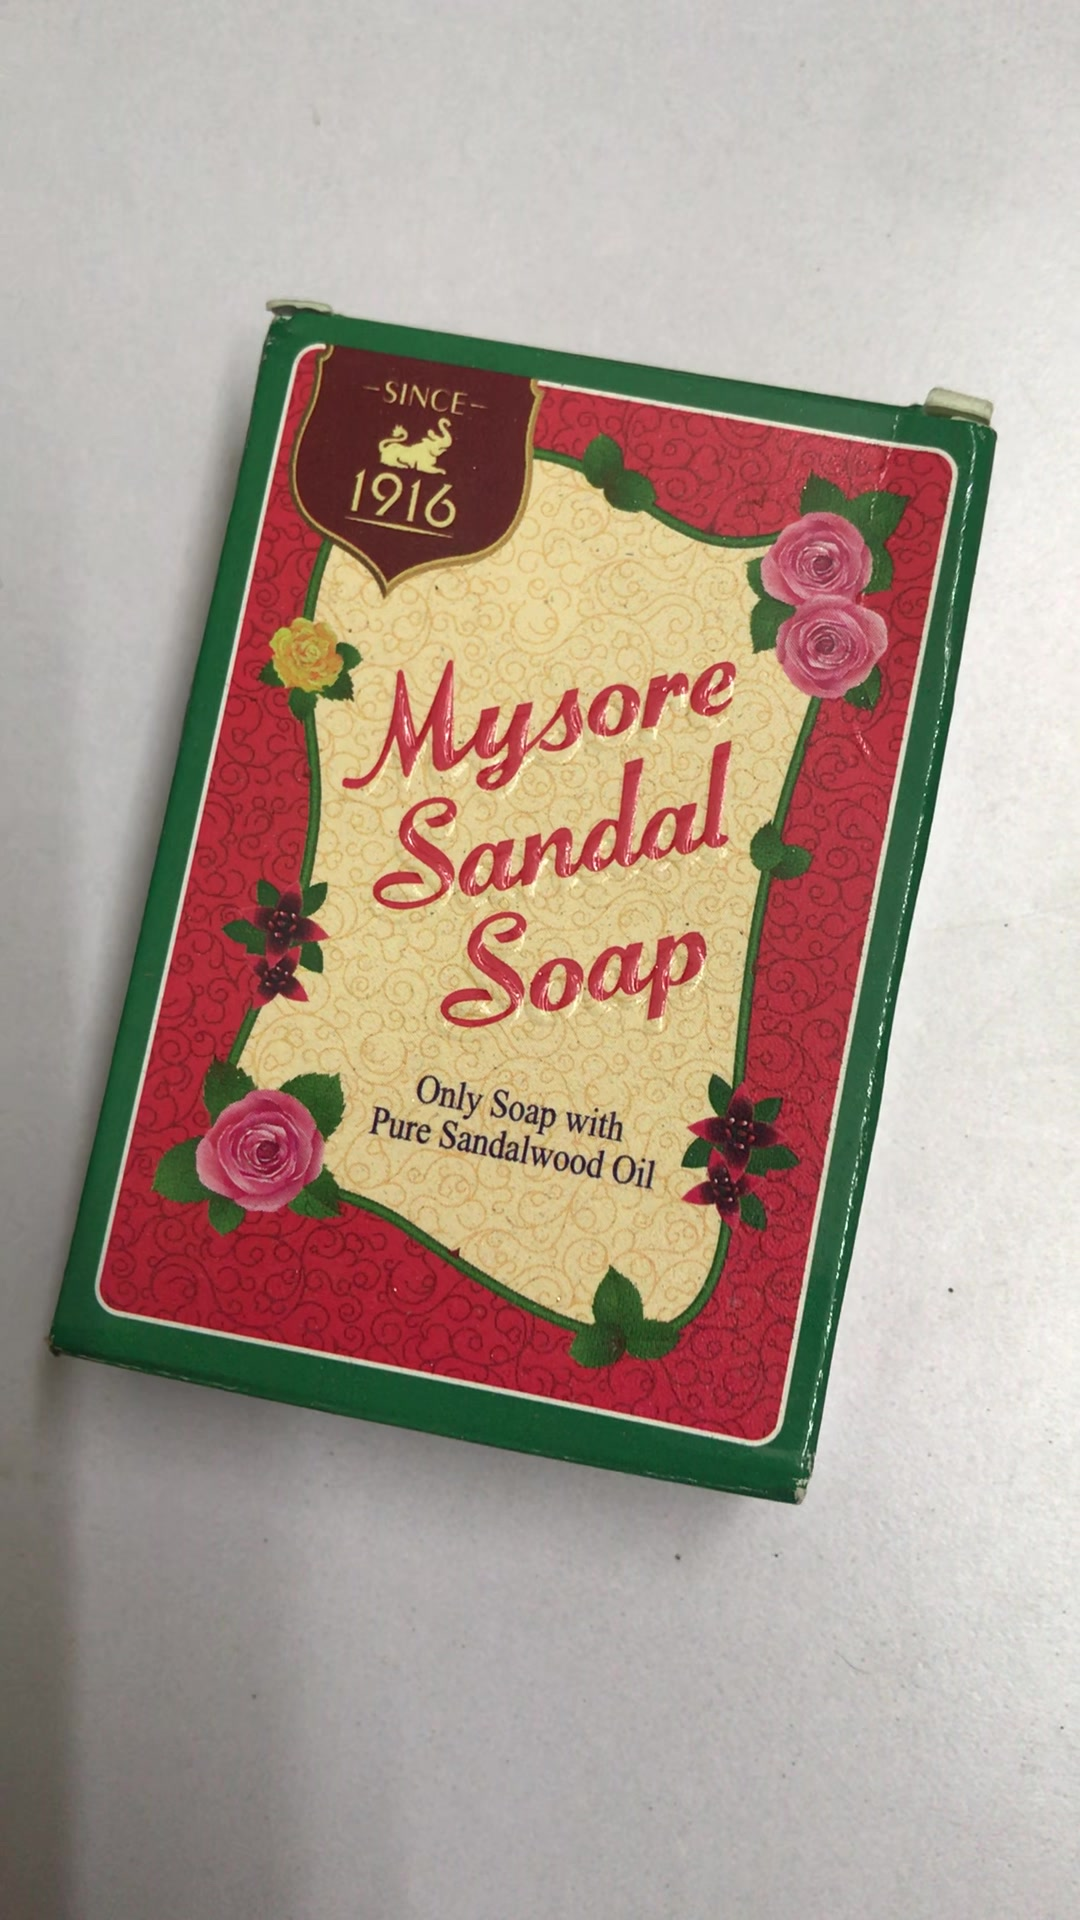mysore sandal soap: (45, 315, 1001, 1484)
